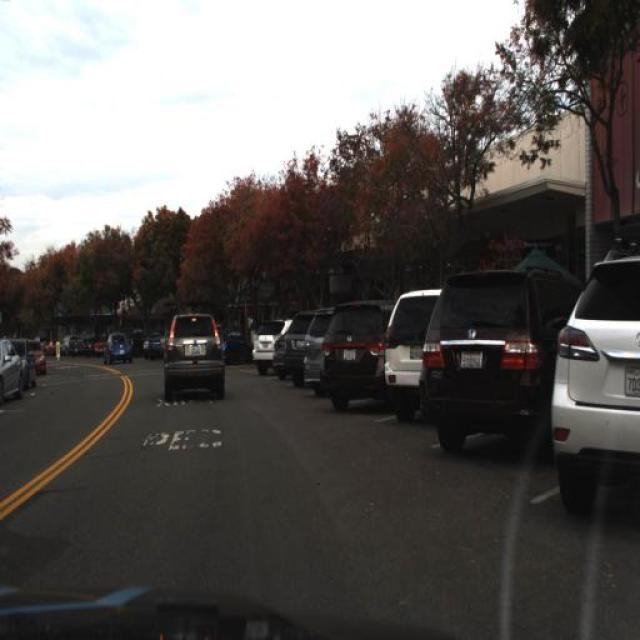car: (419, 258, 571, 457), (550, 248, 640, 526), (377, 280, 442, 428), (380, 278, 438, 430), (320, 292, 390, 413), (159, 310, 229, 404), (248, 313, 288, 377), (0, 337, 30, 403), (98, 326, 138, 370), (15, 338, 36, 394), (274, 333, 284, 378)
